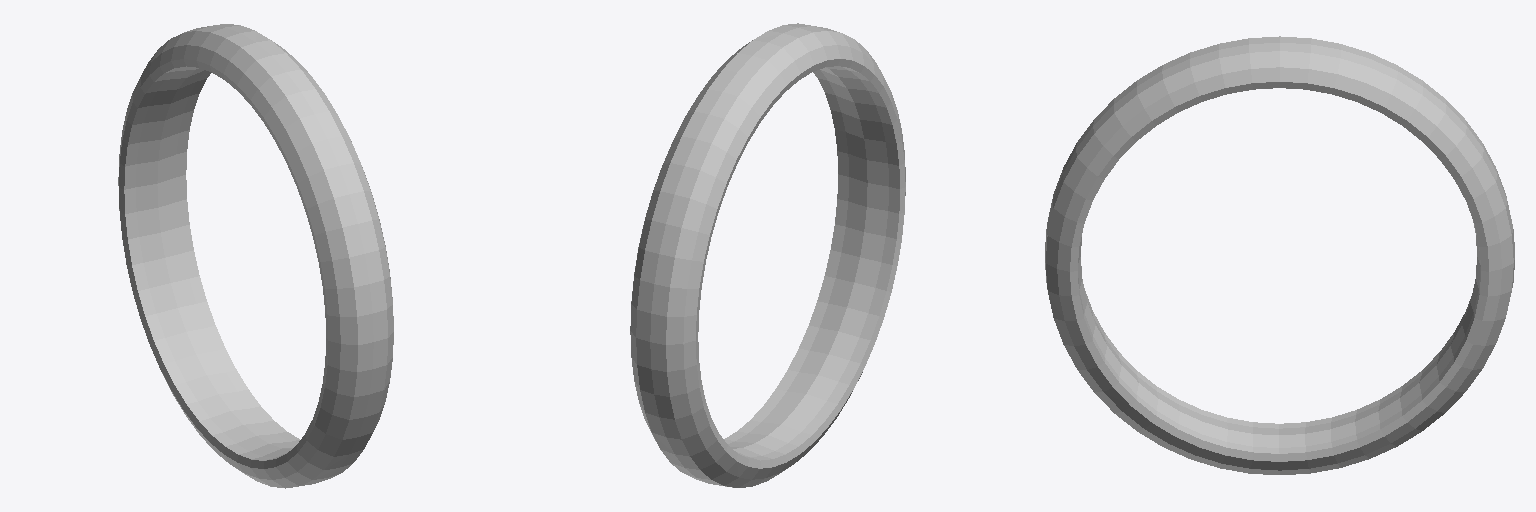
File: Gate.obj
3 views of the same model, side by side, from view 1: azimuth 30°, elevation 25°; view 2: azimuth 150°, elevation 25°; view 3: azimuth 270°, elevation 25° (orthographic).
Visible parts, largest first — view 1: Torus; view 2: Torus; view 3: Torus.
Boxes of the visible parts, box(x1,y1,x2,y2) form: Torus: box(118, 24, 393, 488); Torus: box(630, 23, 905, 487); Torus: box(1045, 36, 1514, 474).
Size of the model in its own units: 1.37 by 8.57 by 8.57.